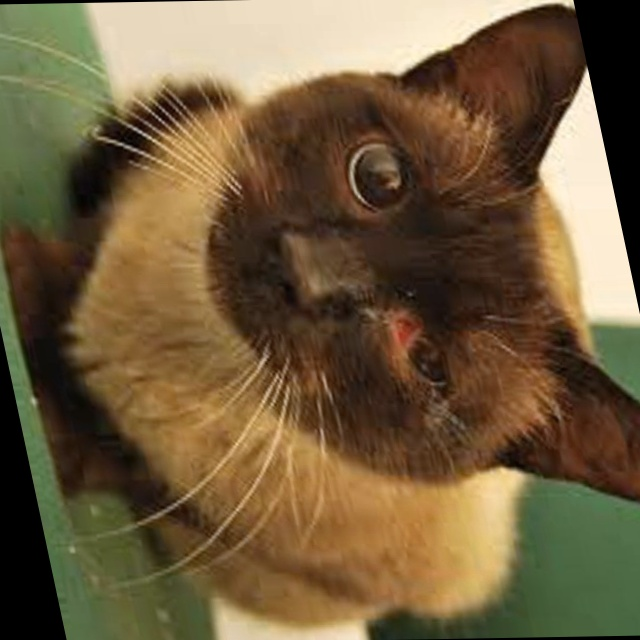eye_infection: (390, 323, 450, 383)
